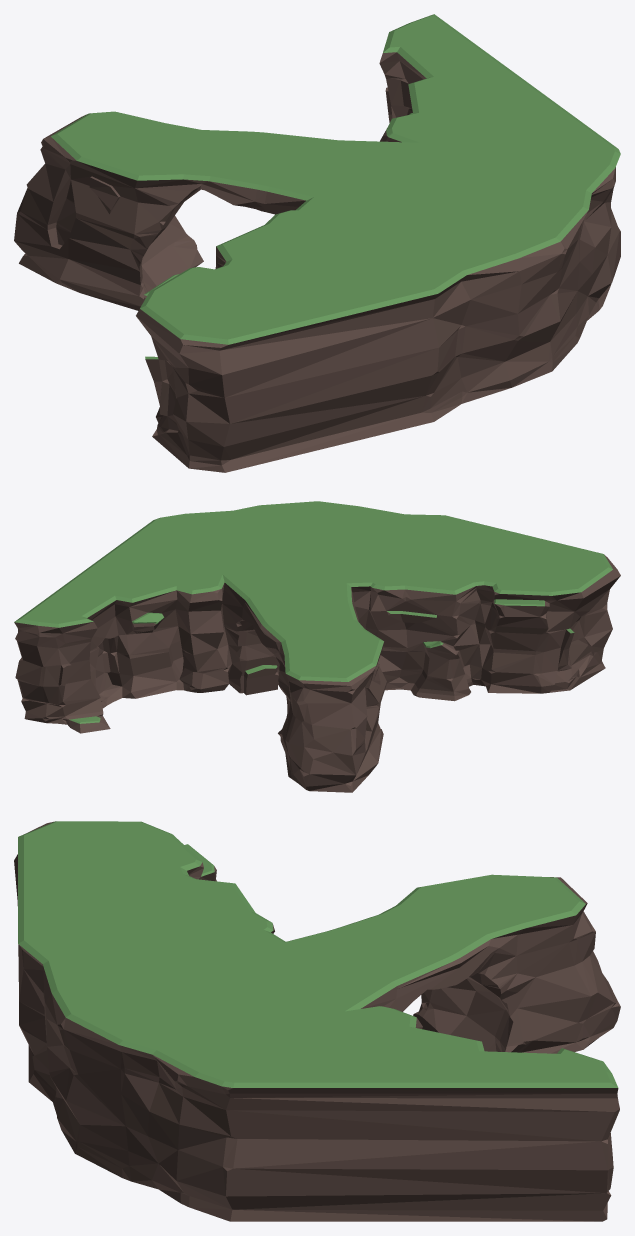
The model's file is Cliff L 1.fbx.
The picture shows the model from 3 angles, top to bottom: view 1: azimuth 30°, elevation 25°; view 2: azimuth 150°, elevation 25°; view 3: azimuth 270°, elevation 25°; orthographic projection. The views are drawn at different scales.
Visible parts, largest first — view 1: Cliff 1; view 2: Cliff 1; view 3: Cliff 1.
Boxes of the visible parts, <box> form: Cliff 1: <box>14,14,620,472</box>; Cliff 1: <box>14,501,620,792</box>; Cliff 1: <box>14,821,620,1221</box>.
Bounding box in the file's own units: 419 × 103 × 398.
